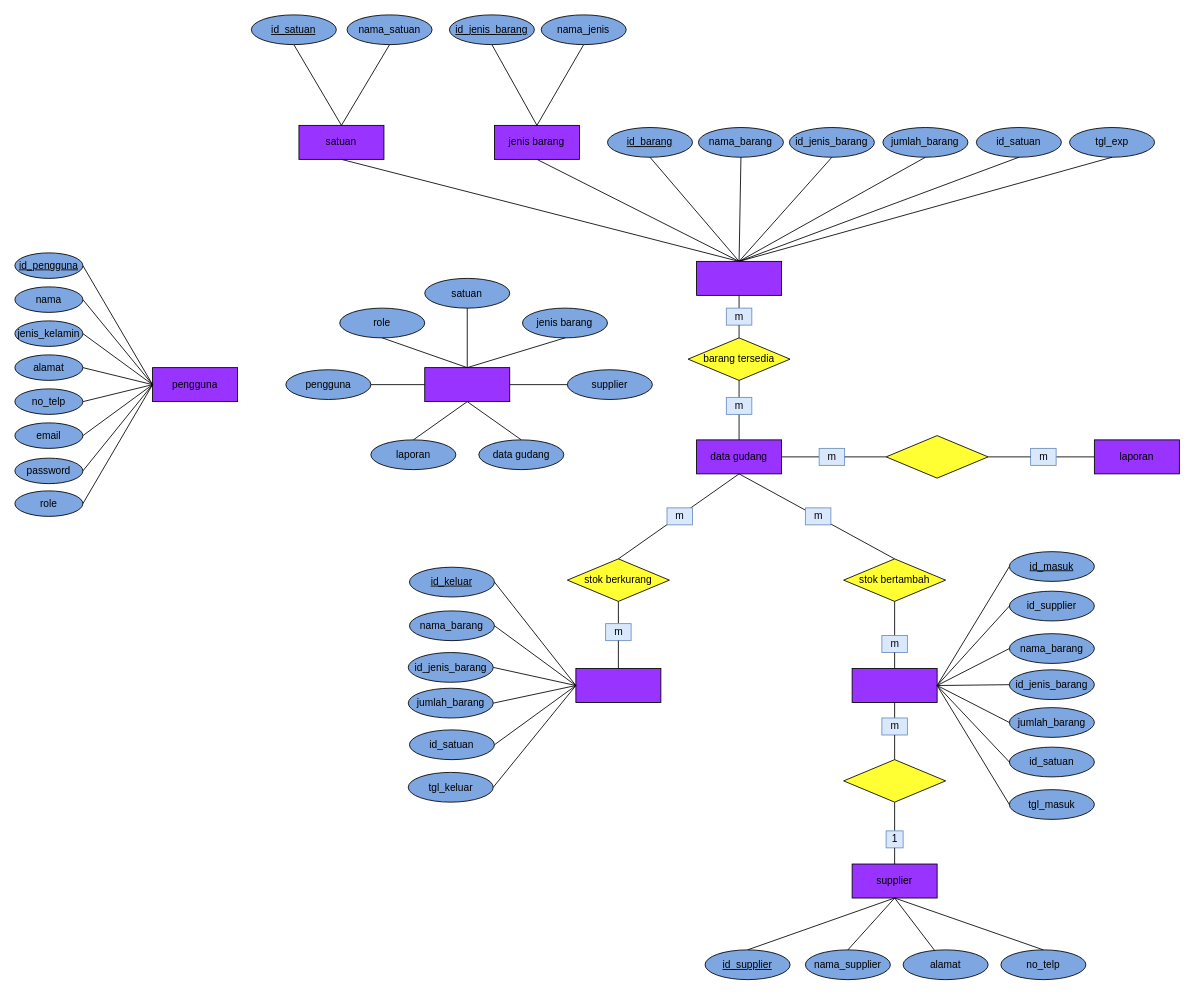
Some shapes in this 1194 by 995 pixel diagram are drawn without their labels. The shapes that lost their labels are listed below. From the top down, each one's box as (x1, y1, x2, y2) in pixels, then its label:
(696, 261, 782, 295): stok barang
(424, 367, 510, 402): hak akses
(885, 435, 988, 478): lihat data gudang
(575, 668, 661, 703): barang keluar
(851, 668, 937, 703): barang masuk
(843, 759, 946, 802): mengirim
